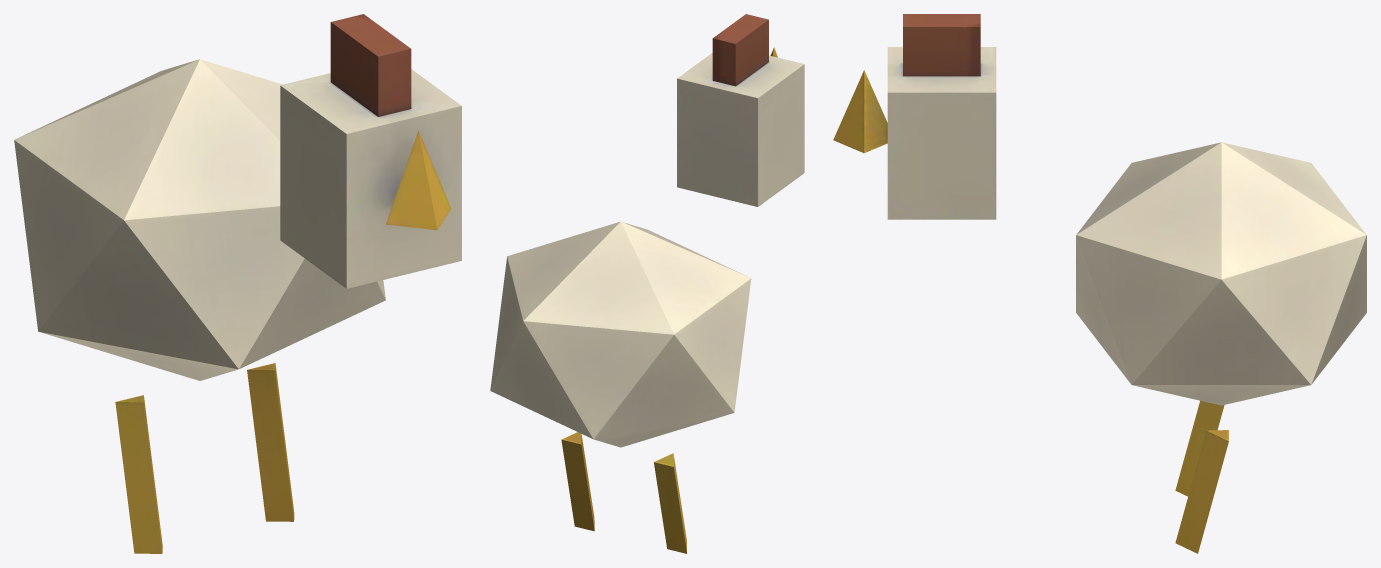
Rendered from life-hen.glb.
The picture shows the model from 3 angles, left to right: view 1: azimuth 30°, elevation 25°; view 2: azimuth 150°, elevation 25°; view 3: azimuth 270°, elevation 25°; orthographic projection. The views are drawn at different scales.
Parts seen in each view (by area): view 1: life-hen; view 2: life-hen; view 3: life-hen.
Part boxes in pixels (left/top/right/bottom): life-hen: left=14, top=14, right=461, bottom=553; life-hen: left=490, top=14, right=804, bottom=553; life-hen: left=833, top=14, right=1366, bottom=553.
Size of the model in its own units: 0.0394 by 0.0712 by 0.0687.
Materials: 1 (1 with a texture image).
